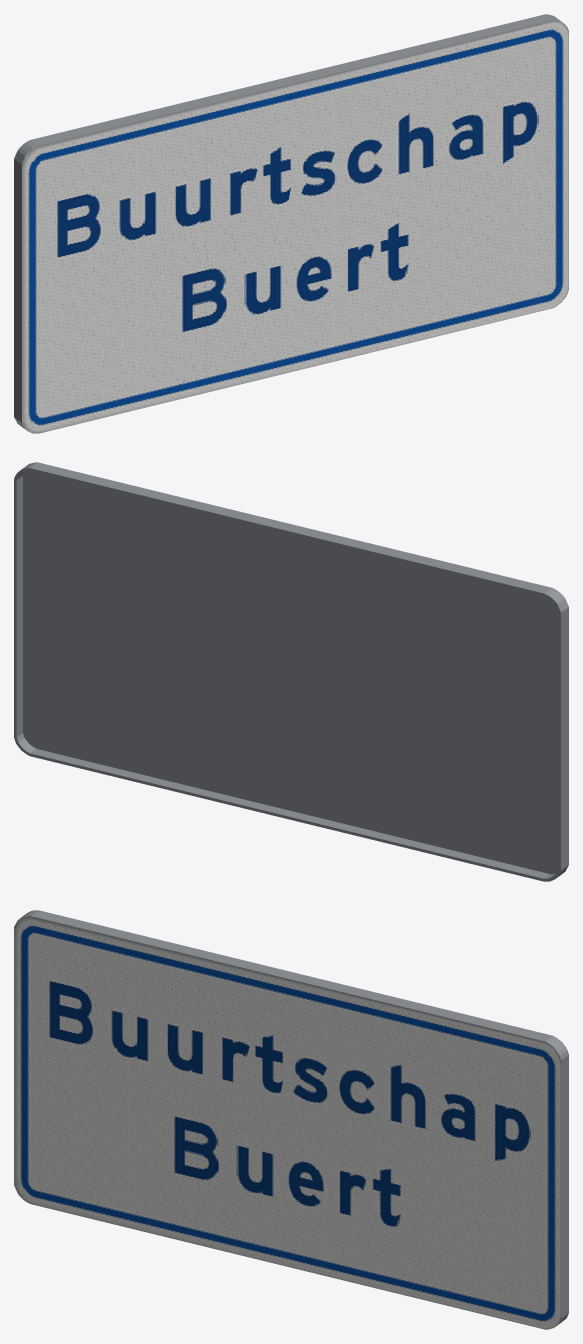
3 renders of one model, top to bottom at view 1: azimuth 30°, elevation 25°; view 2: azimuth 150°, elevation 25°; view 3: azimuth 330°, elevation 25°, orthographic.
Parts seen in each view (by area): view 1: cat_dc786ed720de964a; view 2: cat_dc786ed720de964a; view 3: cat_dc786ed720de964a.
Boxes of the visible parts, x1,y1,x2,y2 form: cat_dc786ed720de964a: (14, 14, 568, 433); cat_dc786ed720de964a: (14, 462, 568, 881); cat_dc786ed720de964a: (14, 910, 568, 1329).
Size of the model in its own units: 0.6 by 0.015 by 0.302.
2 materials, 1 textured.
